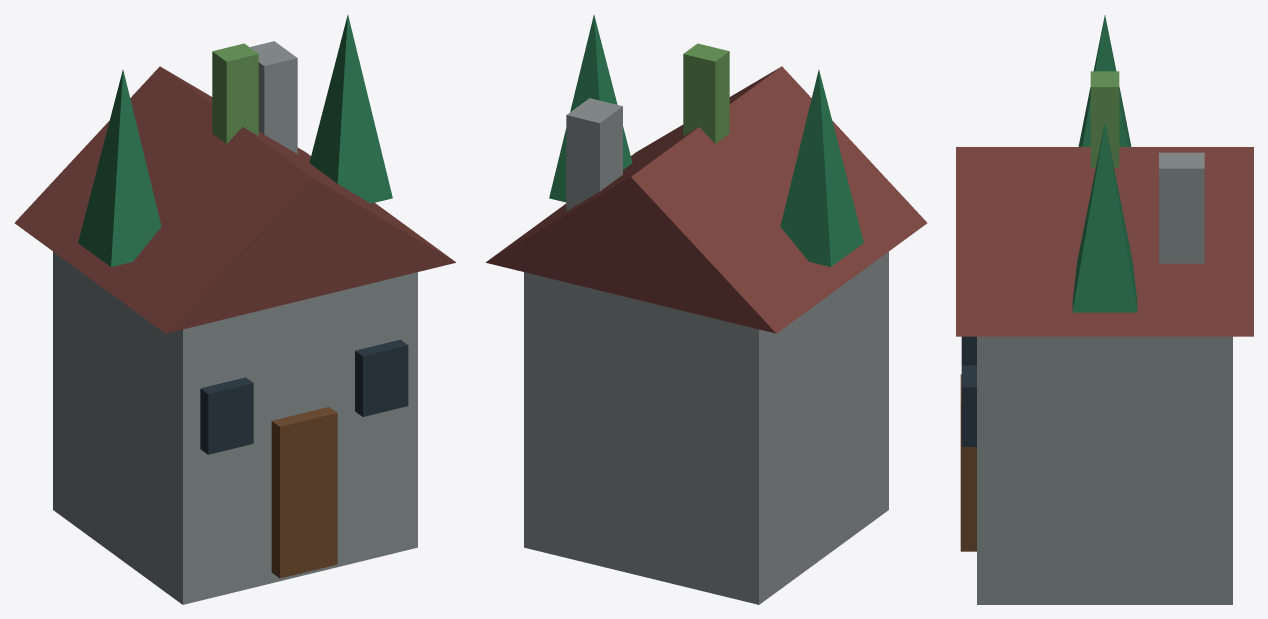
The model's file is civilian.obj.
3 views of the same model, side by side, from view 1: azimuth 30°, elevation 25°; view 2: azimuth 150°, elevation 25°; view 3: azimuth 270°, elevation 25° (orthographic).
Parts seen in each view (by area): view 1: civilian; view 2: civilian; view 3: civilian.
Boxes of the visible parts, box(x1,y1,x2,y2) form: civilian: box(14, 14, 455, 604); civilian: box(486, 14, 927, 604); civilian: box(956, 15, 1253, 604).
Size of the model in its own units: 1.63 by 2.61 by 1.47.
